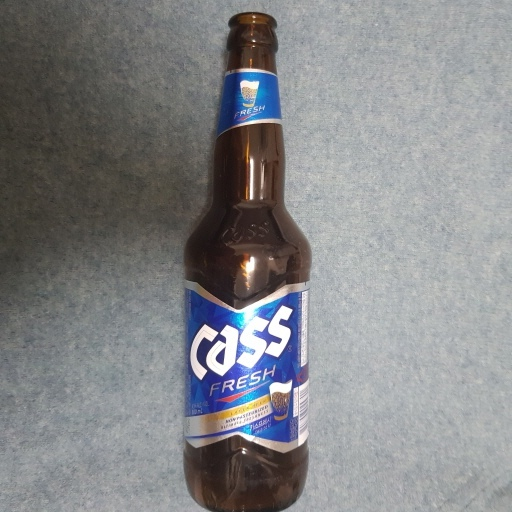Glass_1: (179, 10, 316, 512)
